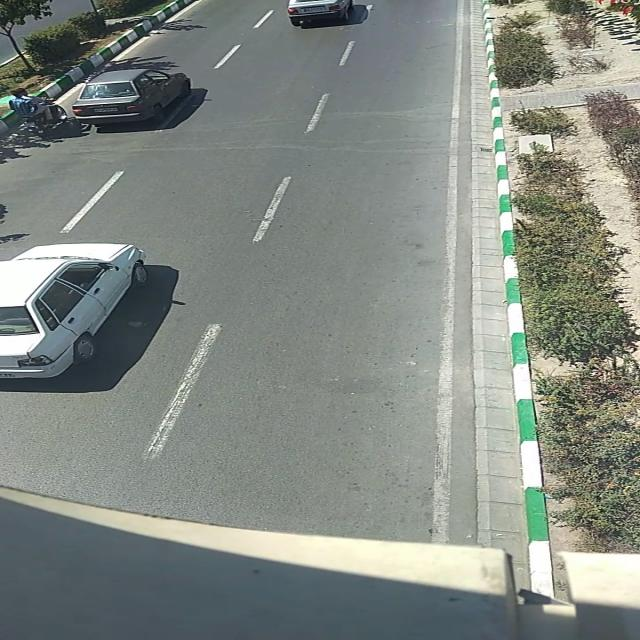car: (0, 244, 148, 382), (71, 66, 189, 125), (285, 1, 355, 26)
motor: (5, 89, 67, 139)
